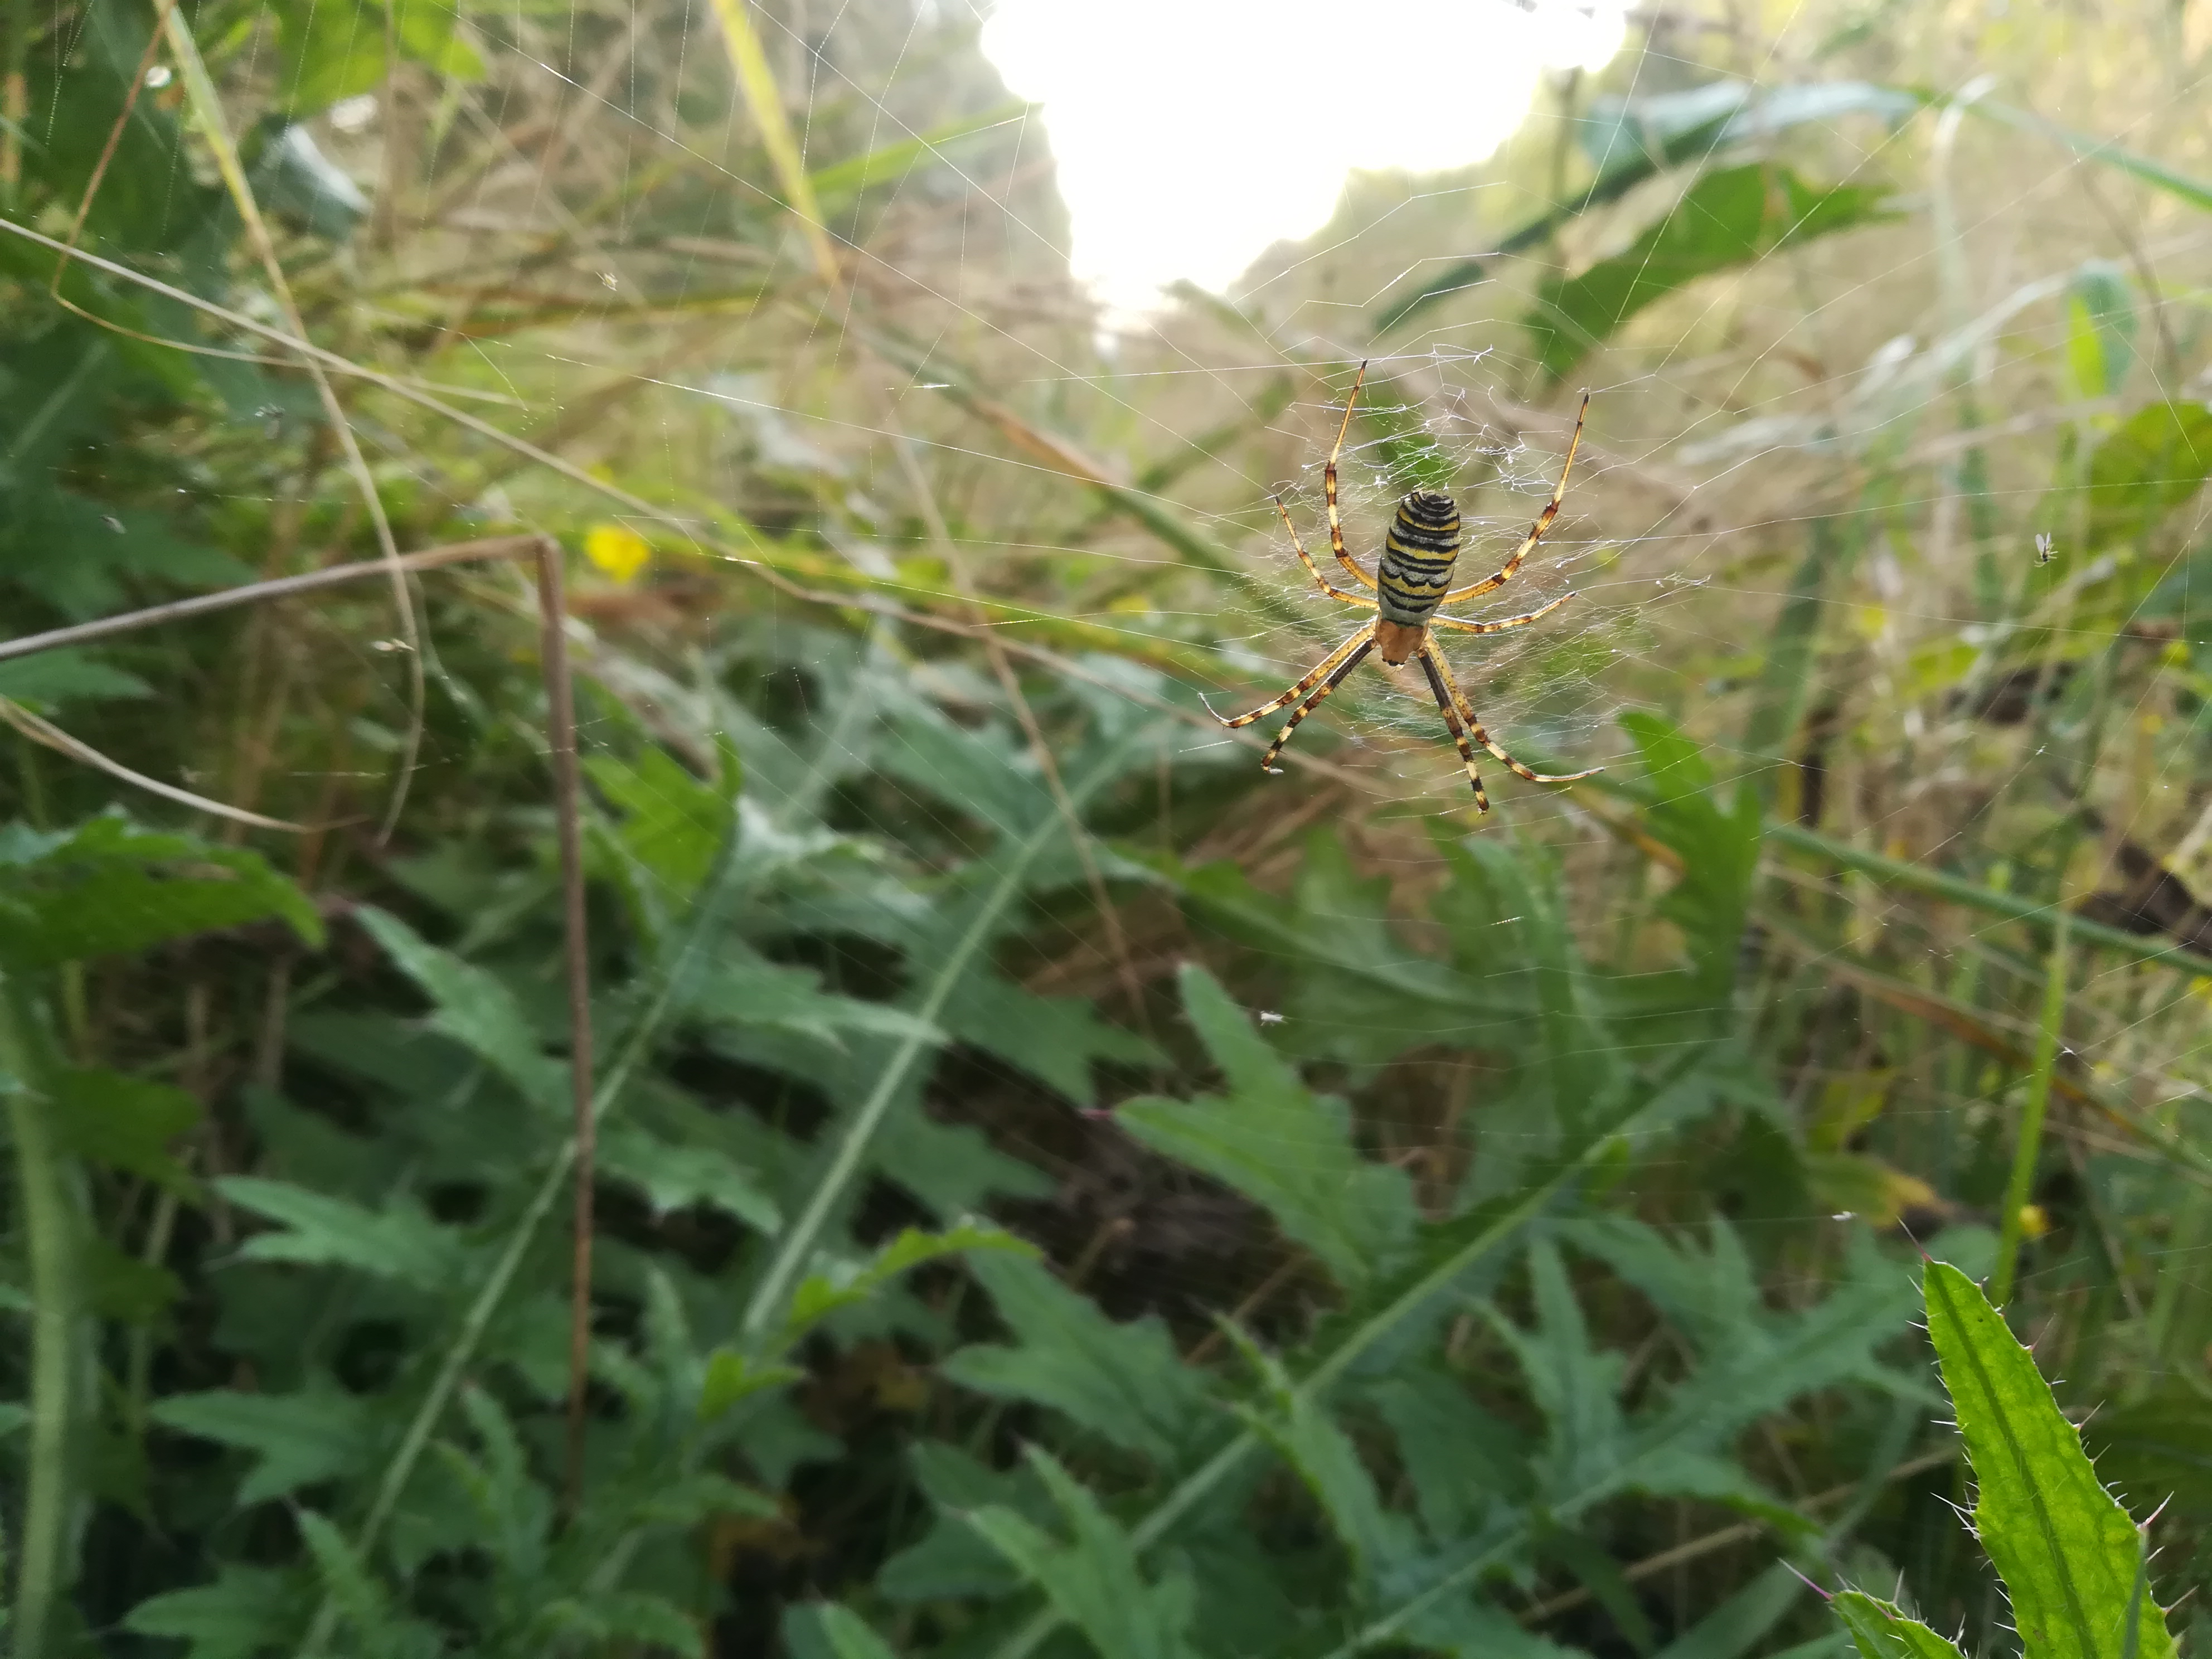spider: (1190, 359, 1653, 836)
